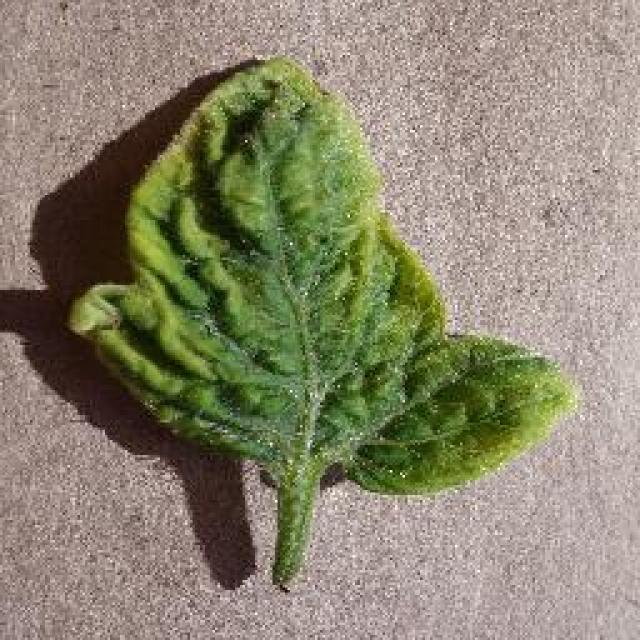Tomato yellow virus leaf: (59, 60, 574, 498)
